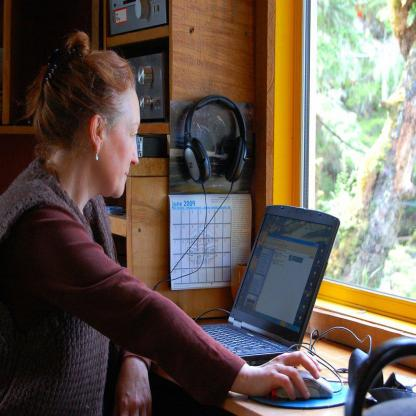board: (216, 204, 338, 364)
